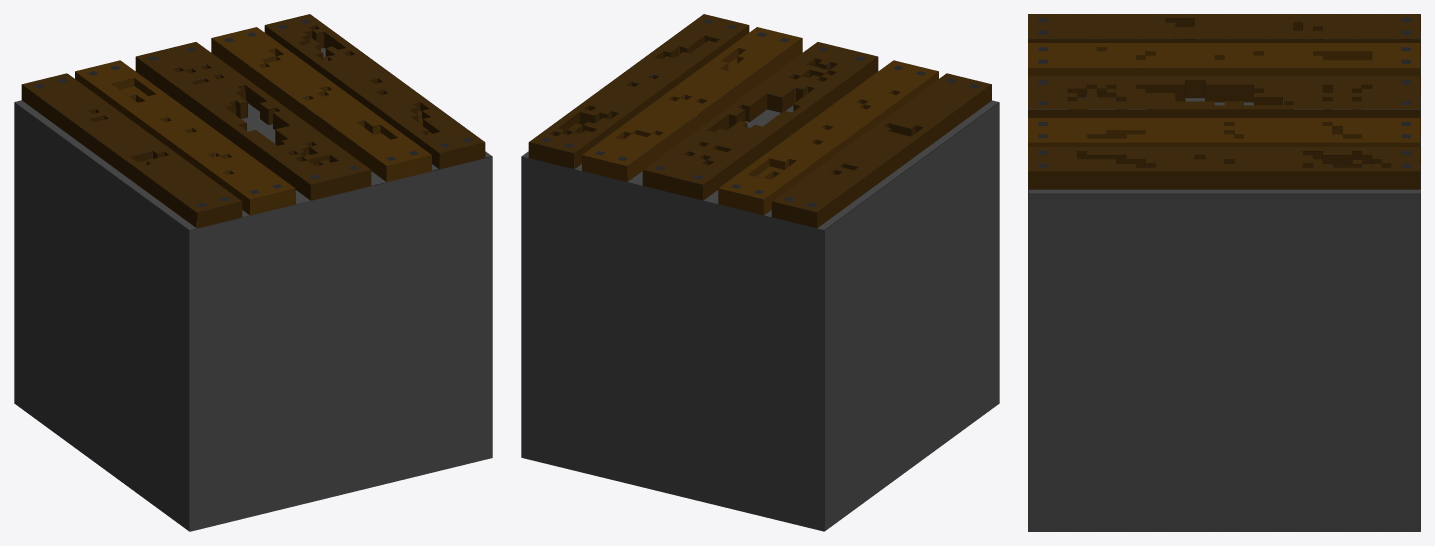
File: CastleFloorBroken.fbx
3 renders of one model, left to right at view 1: azimuth 30°, elevation 25°; view 2: azimuth 150°, elevation 25°; view 3: azimuth 270°, elevation 25°, orthographic. The views are drawn at different scales.
Parts seen in each view (by area): view 1: Castle floor broken; view 2: Castle floor broken; view 3: Castle floor broken.
Part boxes in pixels (left/top/right/bottom): Castle floor broken: left=14, top=14, right=492, bottom=531; Castle floor broken: left=521, top=14, right=999, bottom=531; Castle floor broken: left=1028, top=14, right=1420, bottom=531.
Bounding box in the file's own units: 400 × 400 × 400.
